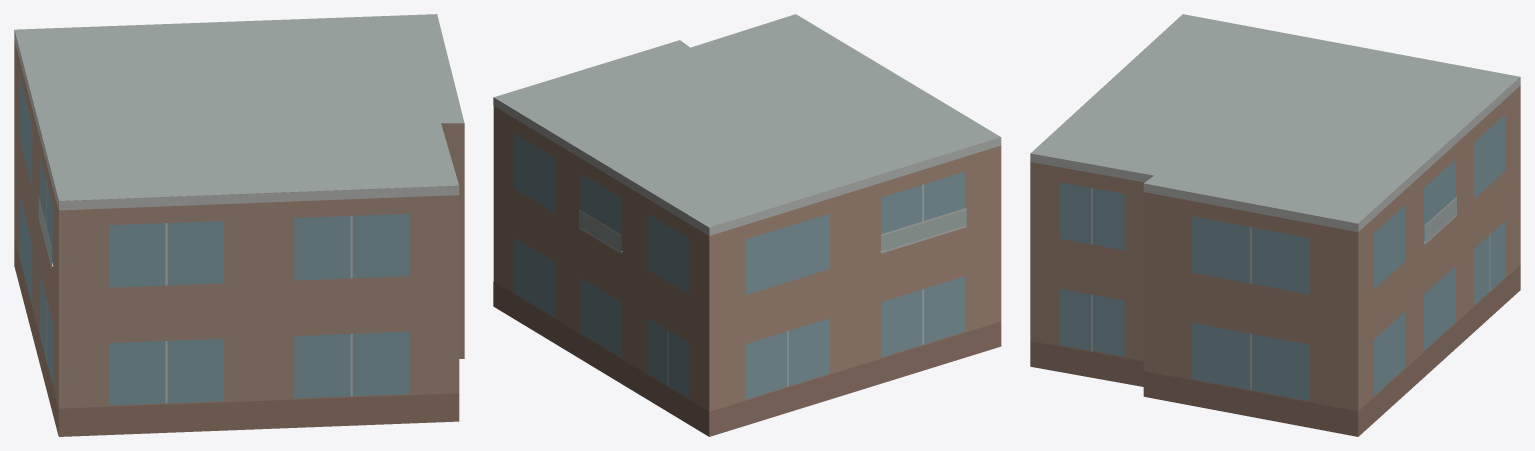
Rendered from survey-upis-32532801.glb.
The picture shows the model from 3 angles, left to right: view 1: azimuth 30°, elevation 25°; view 2: azimuth 150°, elevation 25°; view 3: azimuth 270°, elevation 25°; orthographic projection. The views are drawn at different scales.
Parts seen in each view (by area): view 1: survey-upis-32532801.tmp; view 2: survey-upis-32532801.tmp; view 3: survey-upis-32532801.tmp.
Part boxes in pixels (bbox=[...]): survey-upis-32532801.tmp: bbox=[14, 14, 464, 436]; survey-upis-32532801.tmp: bbox=[493, 14, 1001, 436]; survey-upis-32532801.tmp: bbox=[1030, 14, 1520, 436].
Size of the model in its own units: 12.88 by 6.1 by 12.72.
